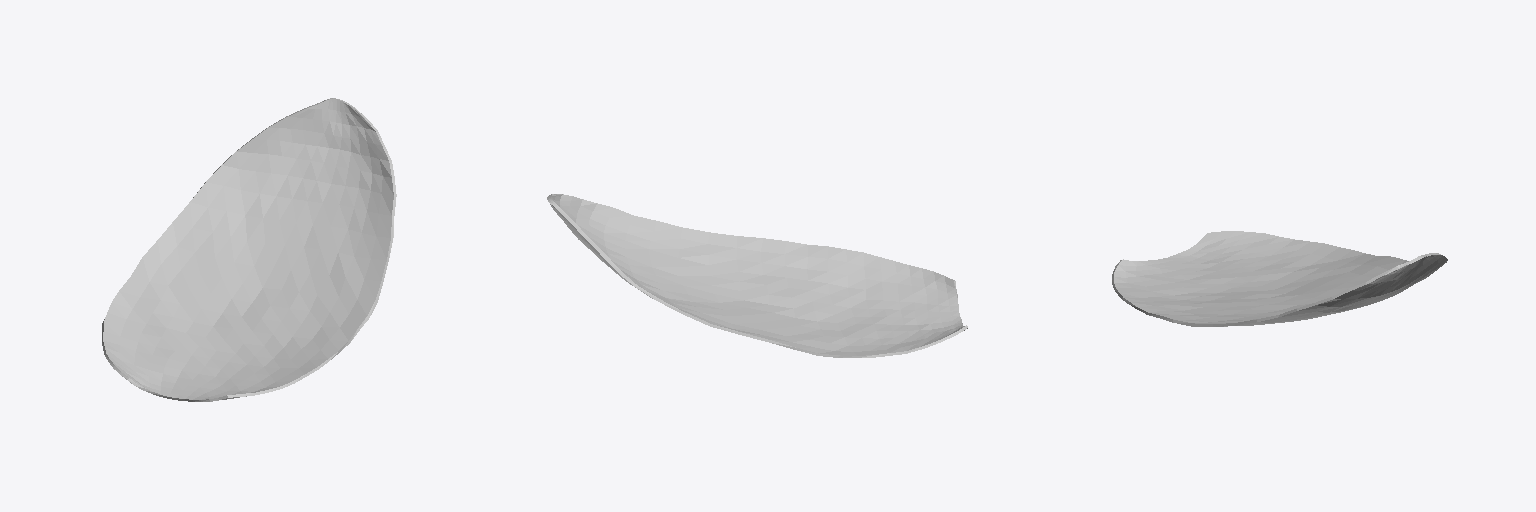
File: shrubleaf.obj
3 renders of one model, left to right at view 1: azimuth 30°, elevation 25°; view 2: azimuth 150°, elevation 25°; view 3: azimuth 270°, elevation 25°, orthographic.
Parts seen in each view (by area): view 1: lotus_OBJ_low:lotu_petal_01; view 2: lotus_OBJ_low:lotu_petal_01; view 3: lotus_OBJ_low:lotu_petal_01.
Boxes of the visible parts, x1=… form: lotus_OBJ_low:lotu_petal_01: x1=102, y1=98, x2=396, y2=401; lotus_OBJ_low:lotu_petal_01: x1=547, y1=194, x2=967, y2=357; lotus_OBJ_low:lotu_petal_01: x1=1112, y1=231, x2=1447, y2=326.
Bounding box in the file's own units: 8.62 × 3.51 × 7.58.